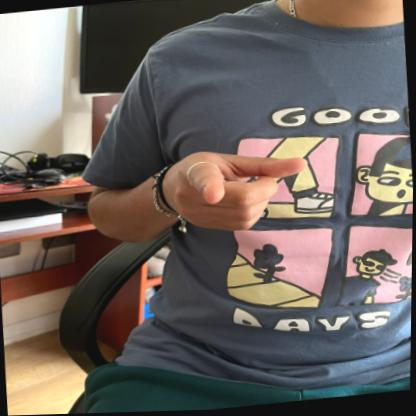X: (162, 132, 319, 242)
